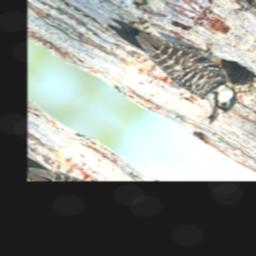Woodpecker: (81, 0, 256, 129)
